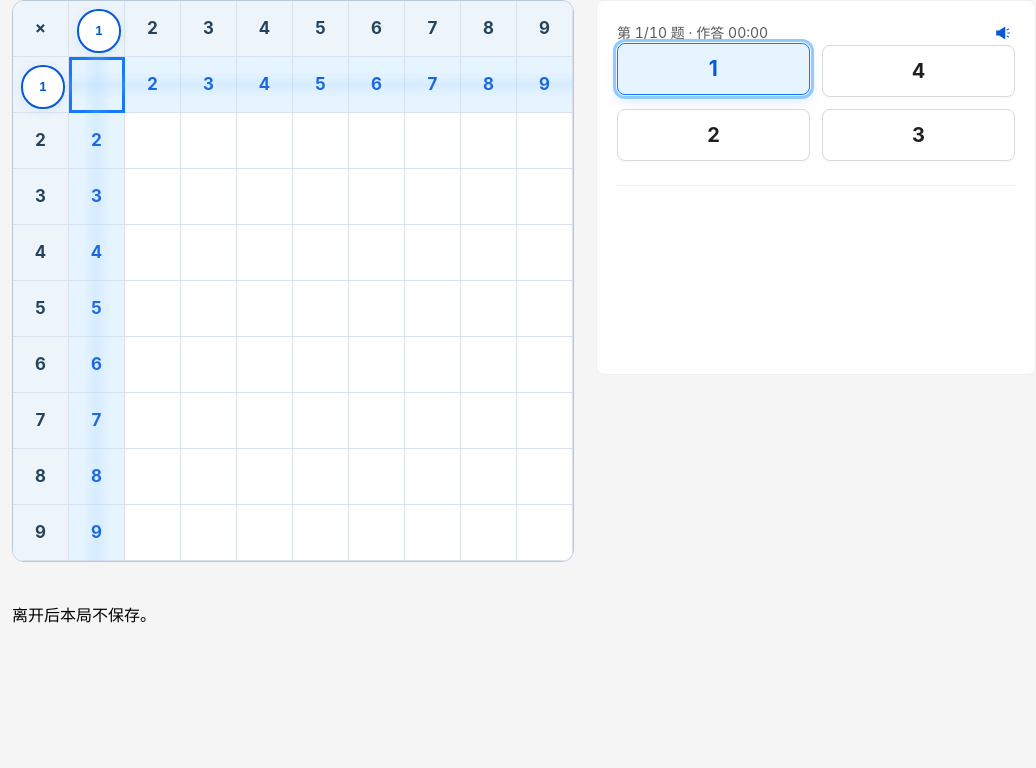
Test: 九九乘法最小闭环 › 作答前矩阵目标格不泄露答案，首次选择后锁定并累计开图
Expected: the cell named "1乘1目标格，答案待填写" is empty, [69,57,125,113]
Click the button named "选择答案 1". click: (714, 69)
box: [617,43,810,95]
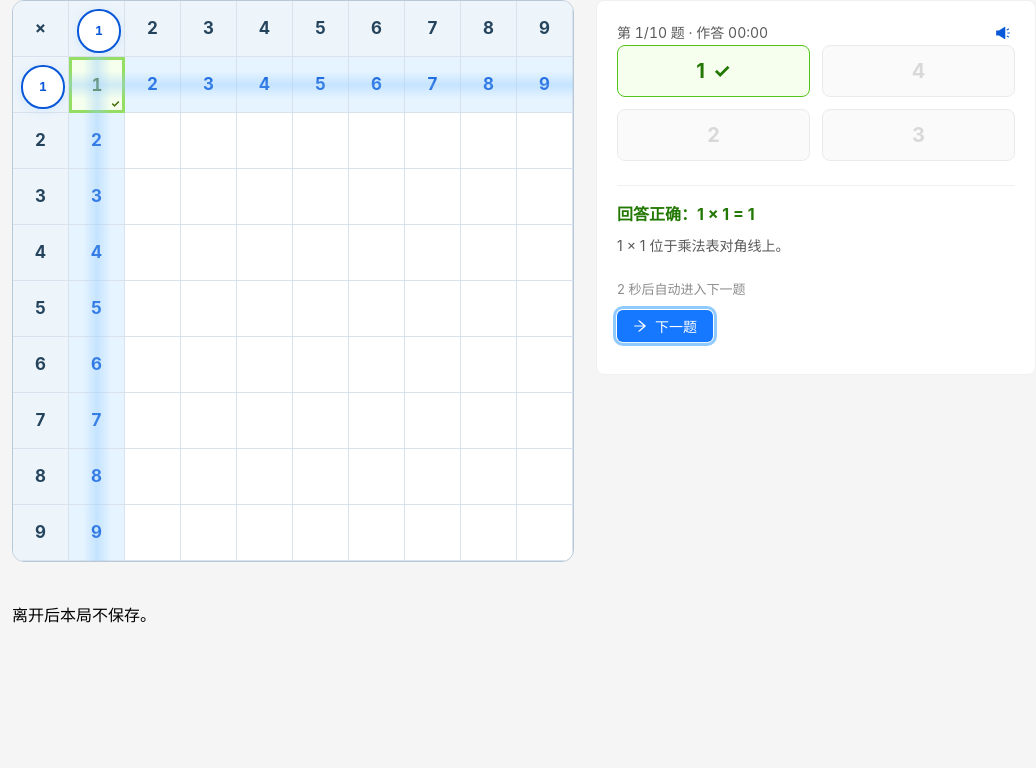
Now the text "回答正确：1 × 1 = 1" is shown, box [617,204,755,224]
Now the button "1 ✓" is disabled, box [617,45,810,97]
Now the button "4" is disabled, box [822,45,1015,97]
Click the button "下一题". click: (665, 326)
box: [617,310,713,342]
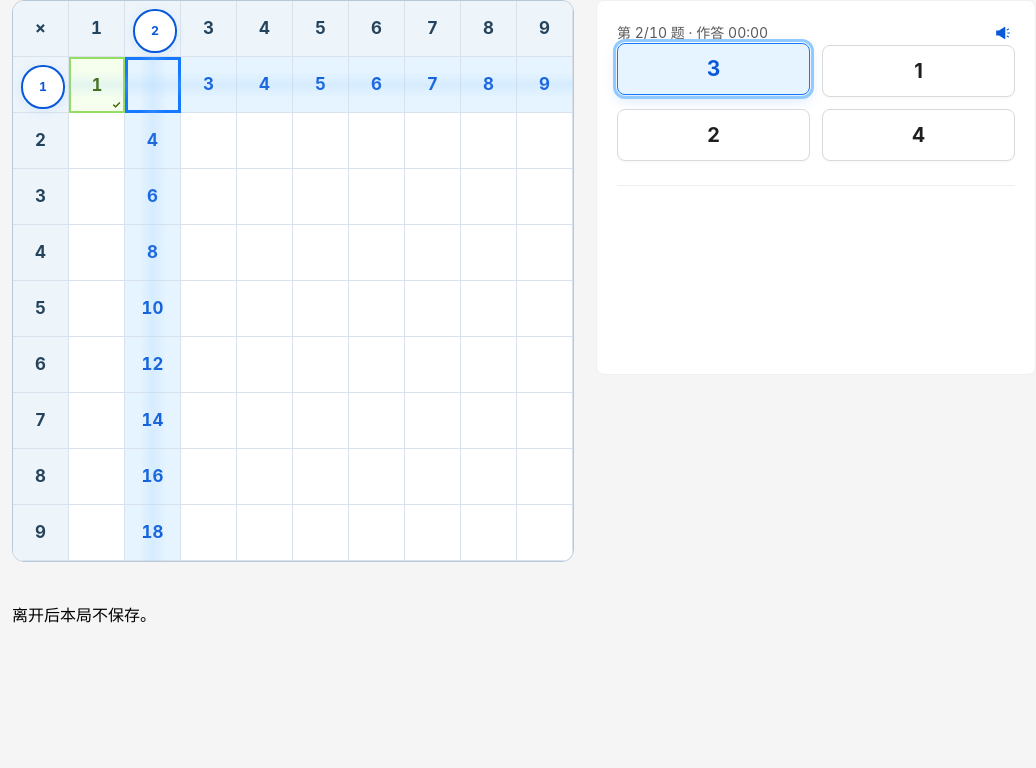
Now the cell "1 ✓" is shown, box [69,57,125,113]
Now the text "第 2/10 题 · 作答 00:00" is shown, box [617,22,768,44]
